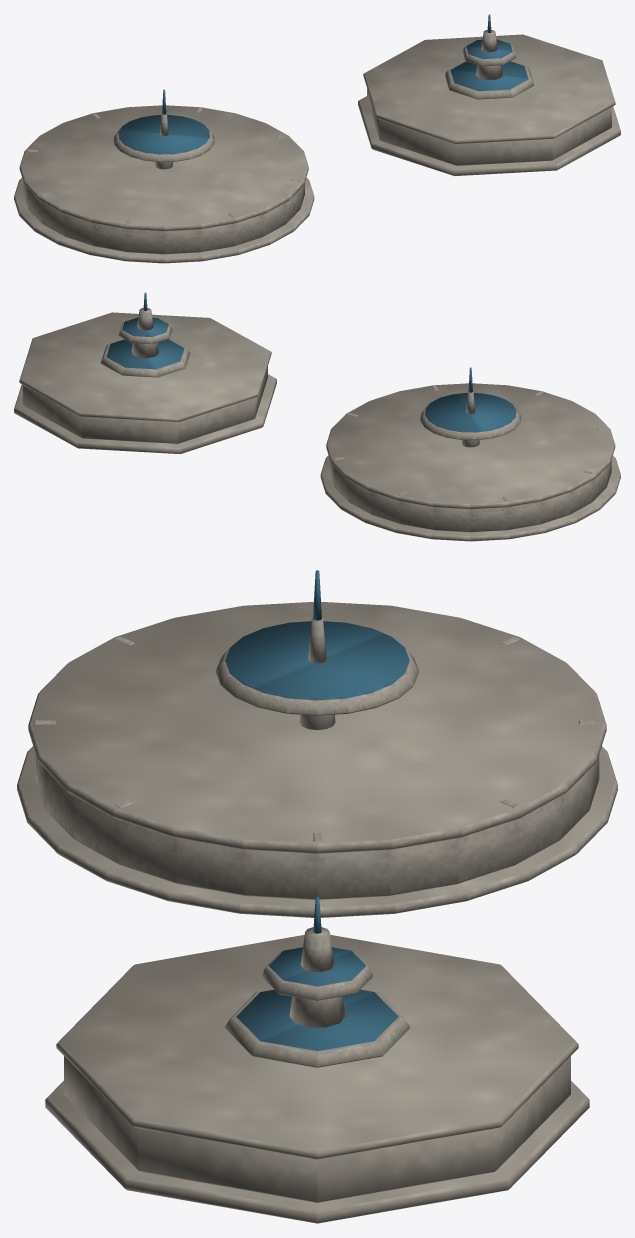
File: fountain.glb
3 views of the same model, one above another, from view 1: azimuth 30°, elevation 25°; view 2: azimuth 150°, elevation 25°; view 3: azimuth 270°, elevation 25° (orthographic). The views are drawn at different scales.
Parts seen in each view (by area): view 1: fountain_v1, fountain_v2; view 2: fountain_v1, fountain_v2; view 3: fountain_v1, fountain_v2.
Part boxes in pixels (box(x1,y1,x2,y2)): fountain_v1: box(14, 89, 314, 263); fountain_v2: box(358, 14, 620, 175); fountain_v1: box(320, 367, 620, 541); fountain_v2: box(14, 292, 276, 453); fountain_v1: box(17, 570, 617, 917); fountain_v2: box(45, 896, 589, 1223).
Bounding box in the file's own units: 14.1 × 2.6 × 6.4.
Materials: 2 (2 with a texture image).
